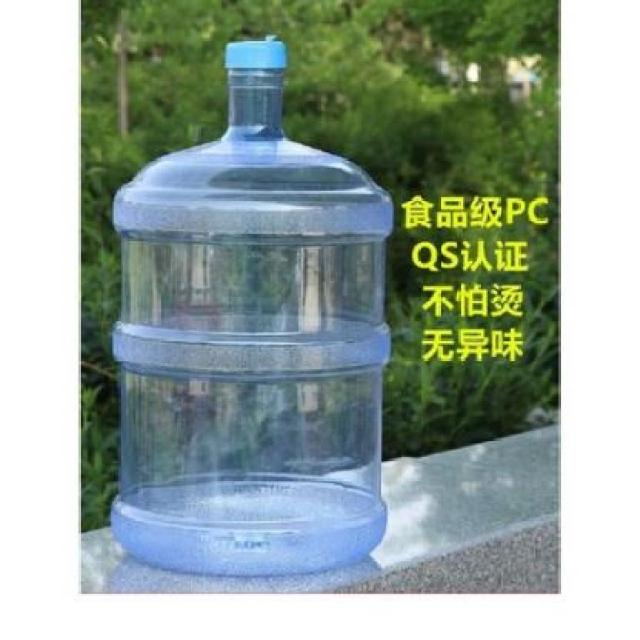coolerbottle: (108, 34, 398, 581)
